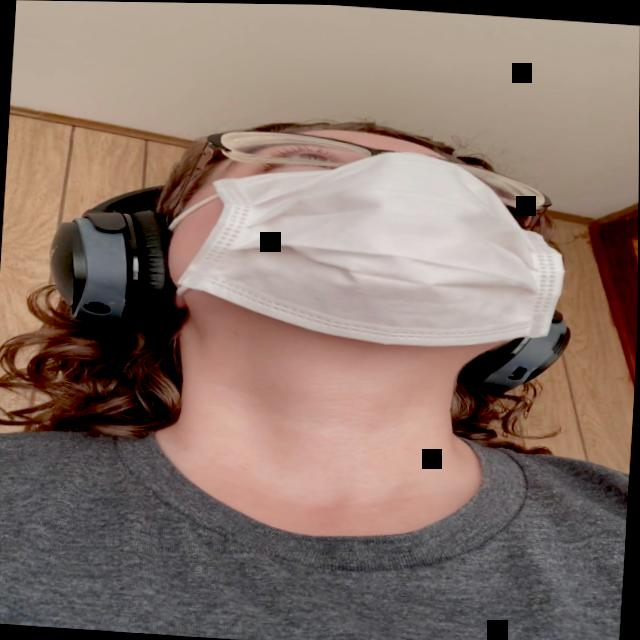Mask: (159, 119, 575, 354)
